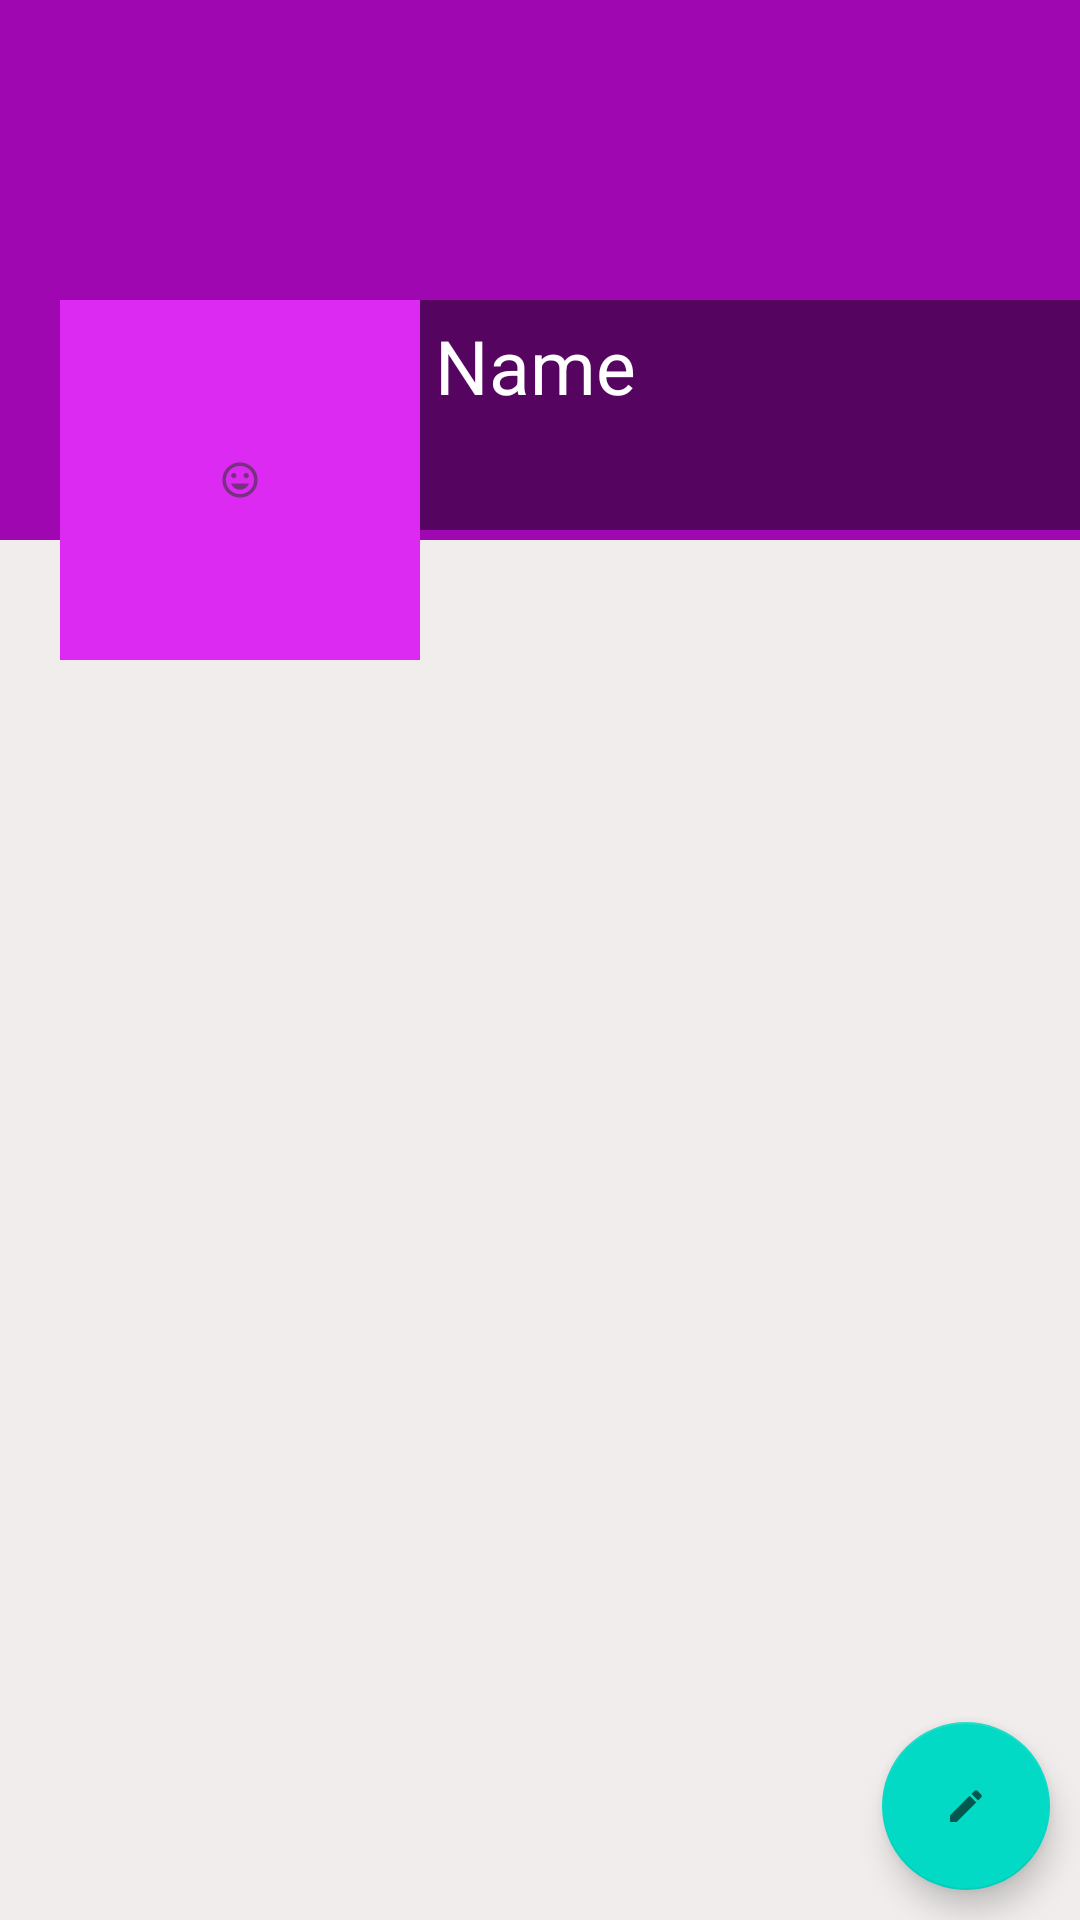

Icons on this 1080 x 1920 Android screen, each with its box as (x1, y1, x2, y2):
edit: (882, 1722, 1050, 1890)
